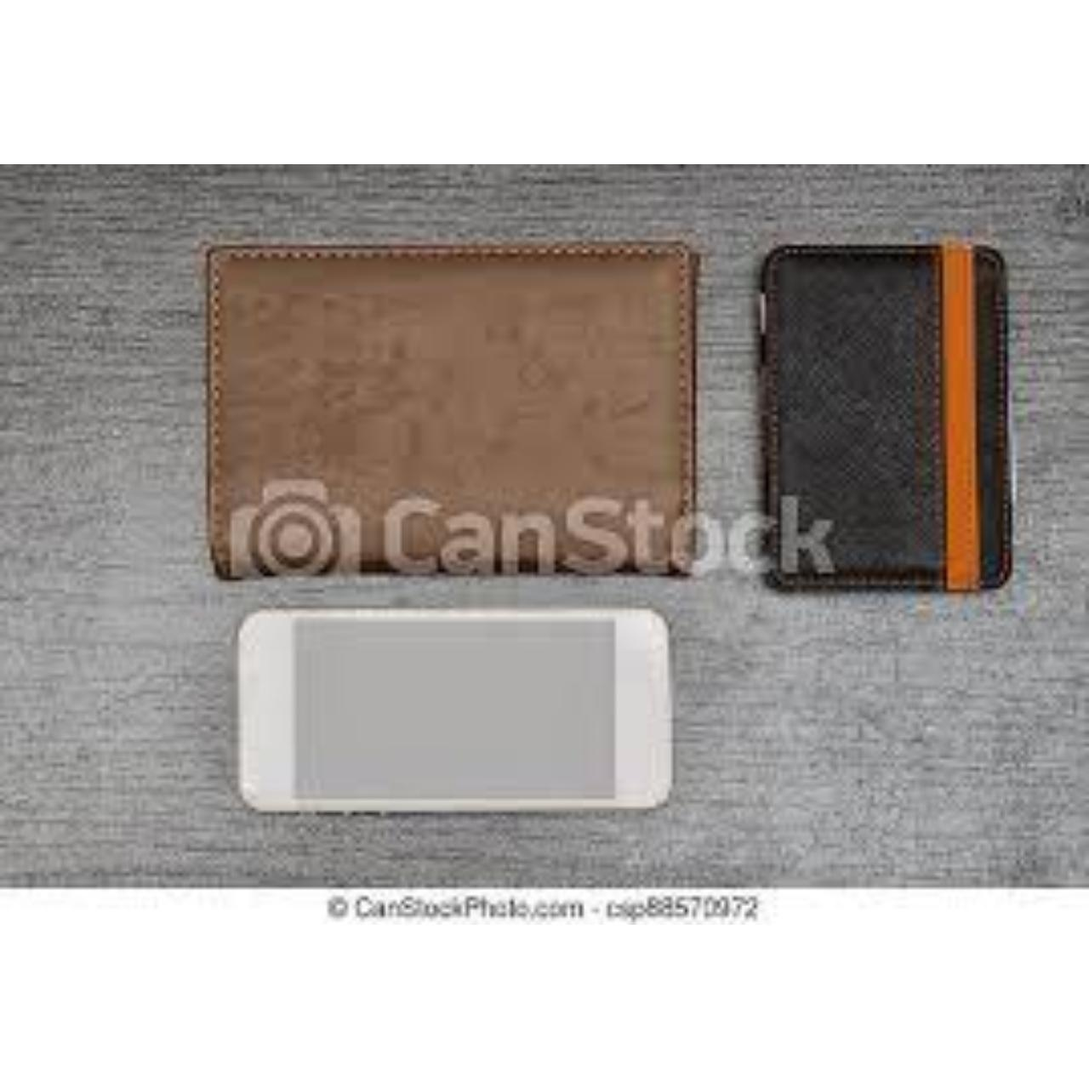wallet: (164, 188, 763, 601), (741, 194, 1089, 595)
